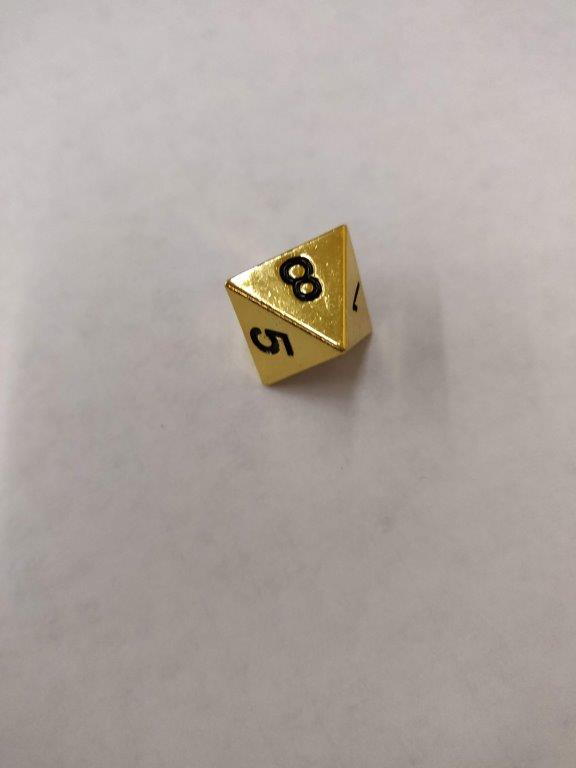d8-8: (224, 224, 372, 390)
